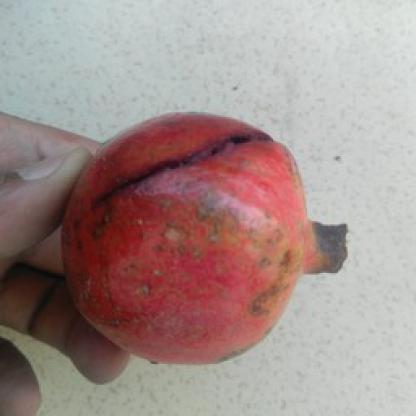pomegranate_rotten: (58, 104, 348, 364)
